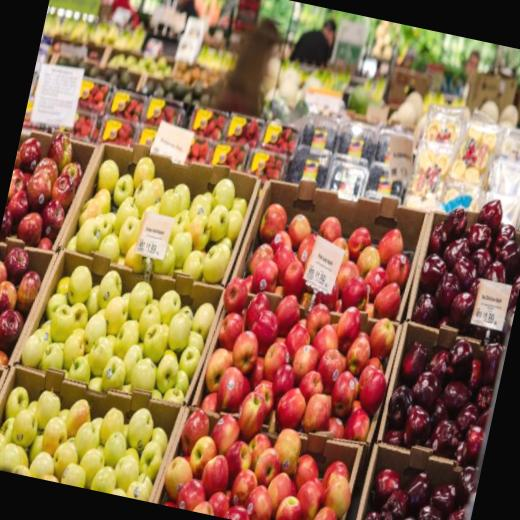Apple: (159, 188, 424, 520), (355, 183, 520, 520), (15, 250, 218, 409), (0, 121, 89, 473), (66, 142, 253, 292), (0, 375, 174, 503), (315, 463, 359, 520)
